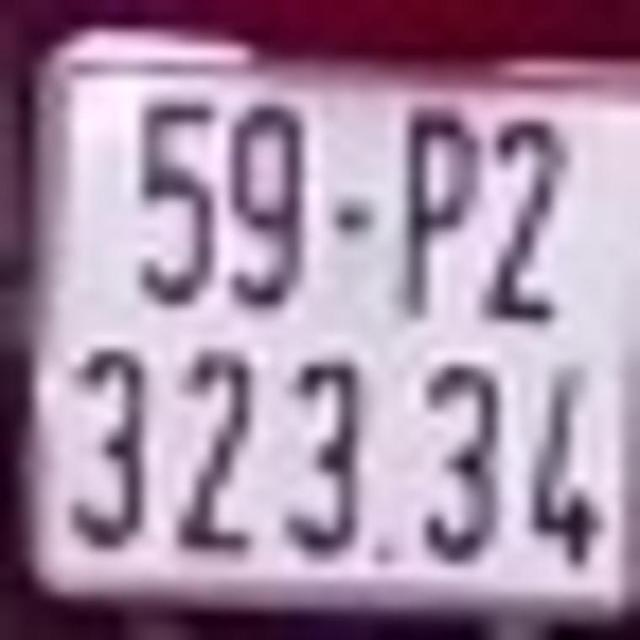2: (173, 345, 257, 554), (488, 108, 569, 324)
3: (66, 341, 150, 552), (421, 356, 502, 565), (285, 352, 362, 557)
4: (530, 357, 606, 568)
5: (134, 93, 218, 307)
9: (226, 93, 309, 312)
P: (401, 99, 480, 324)
